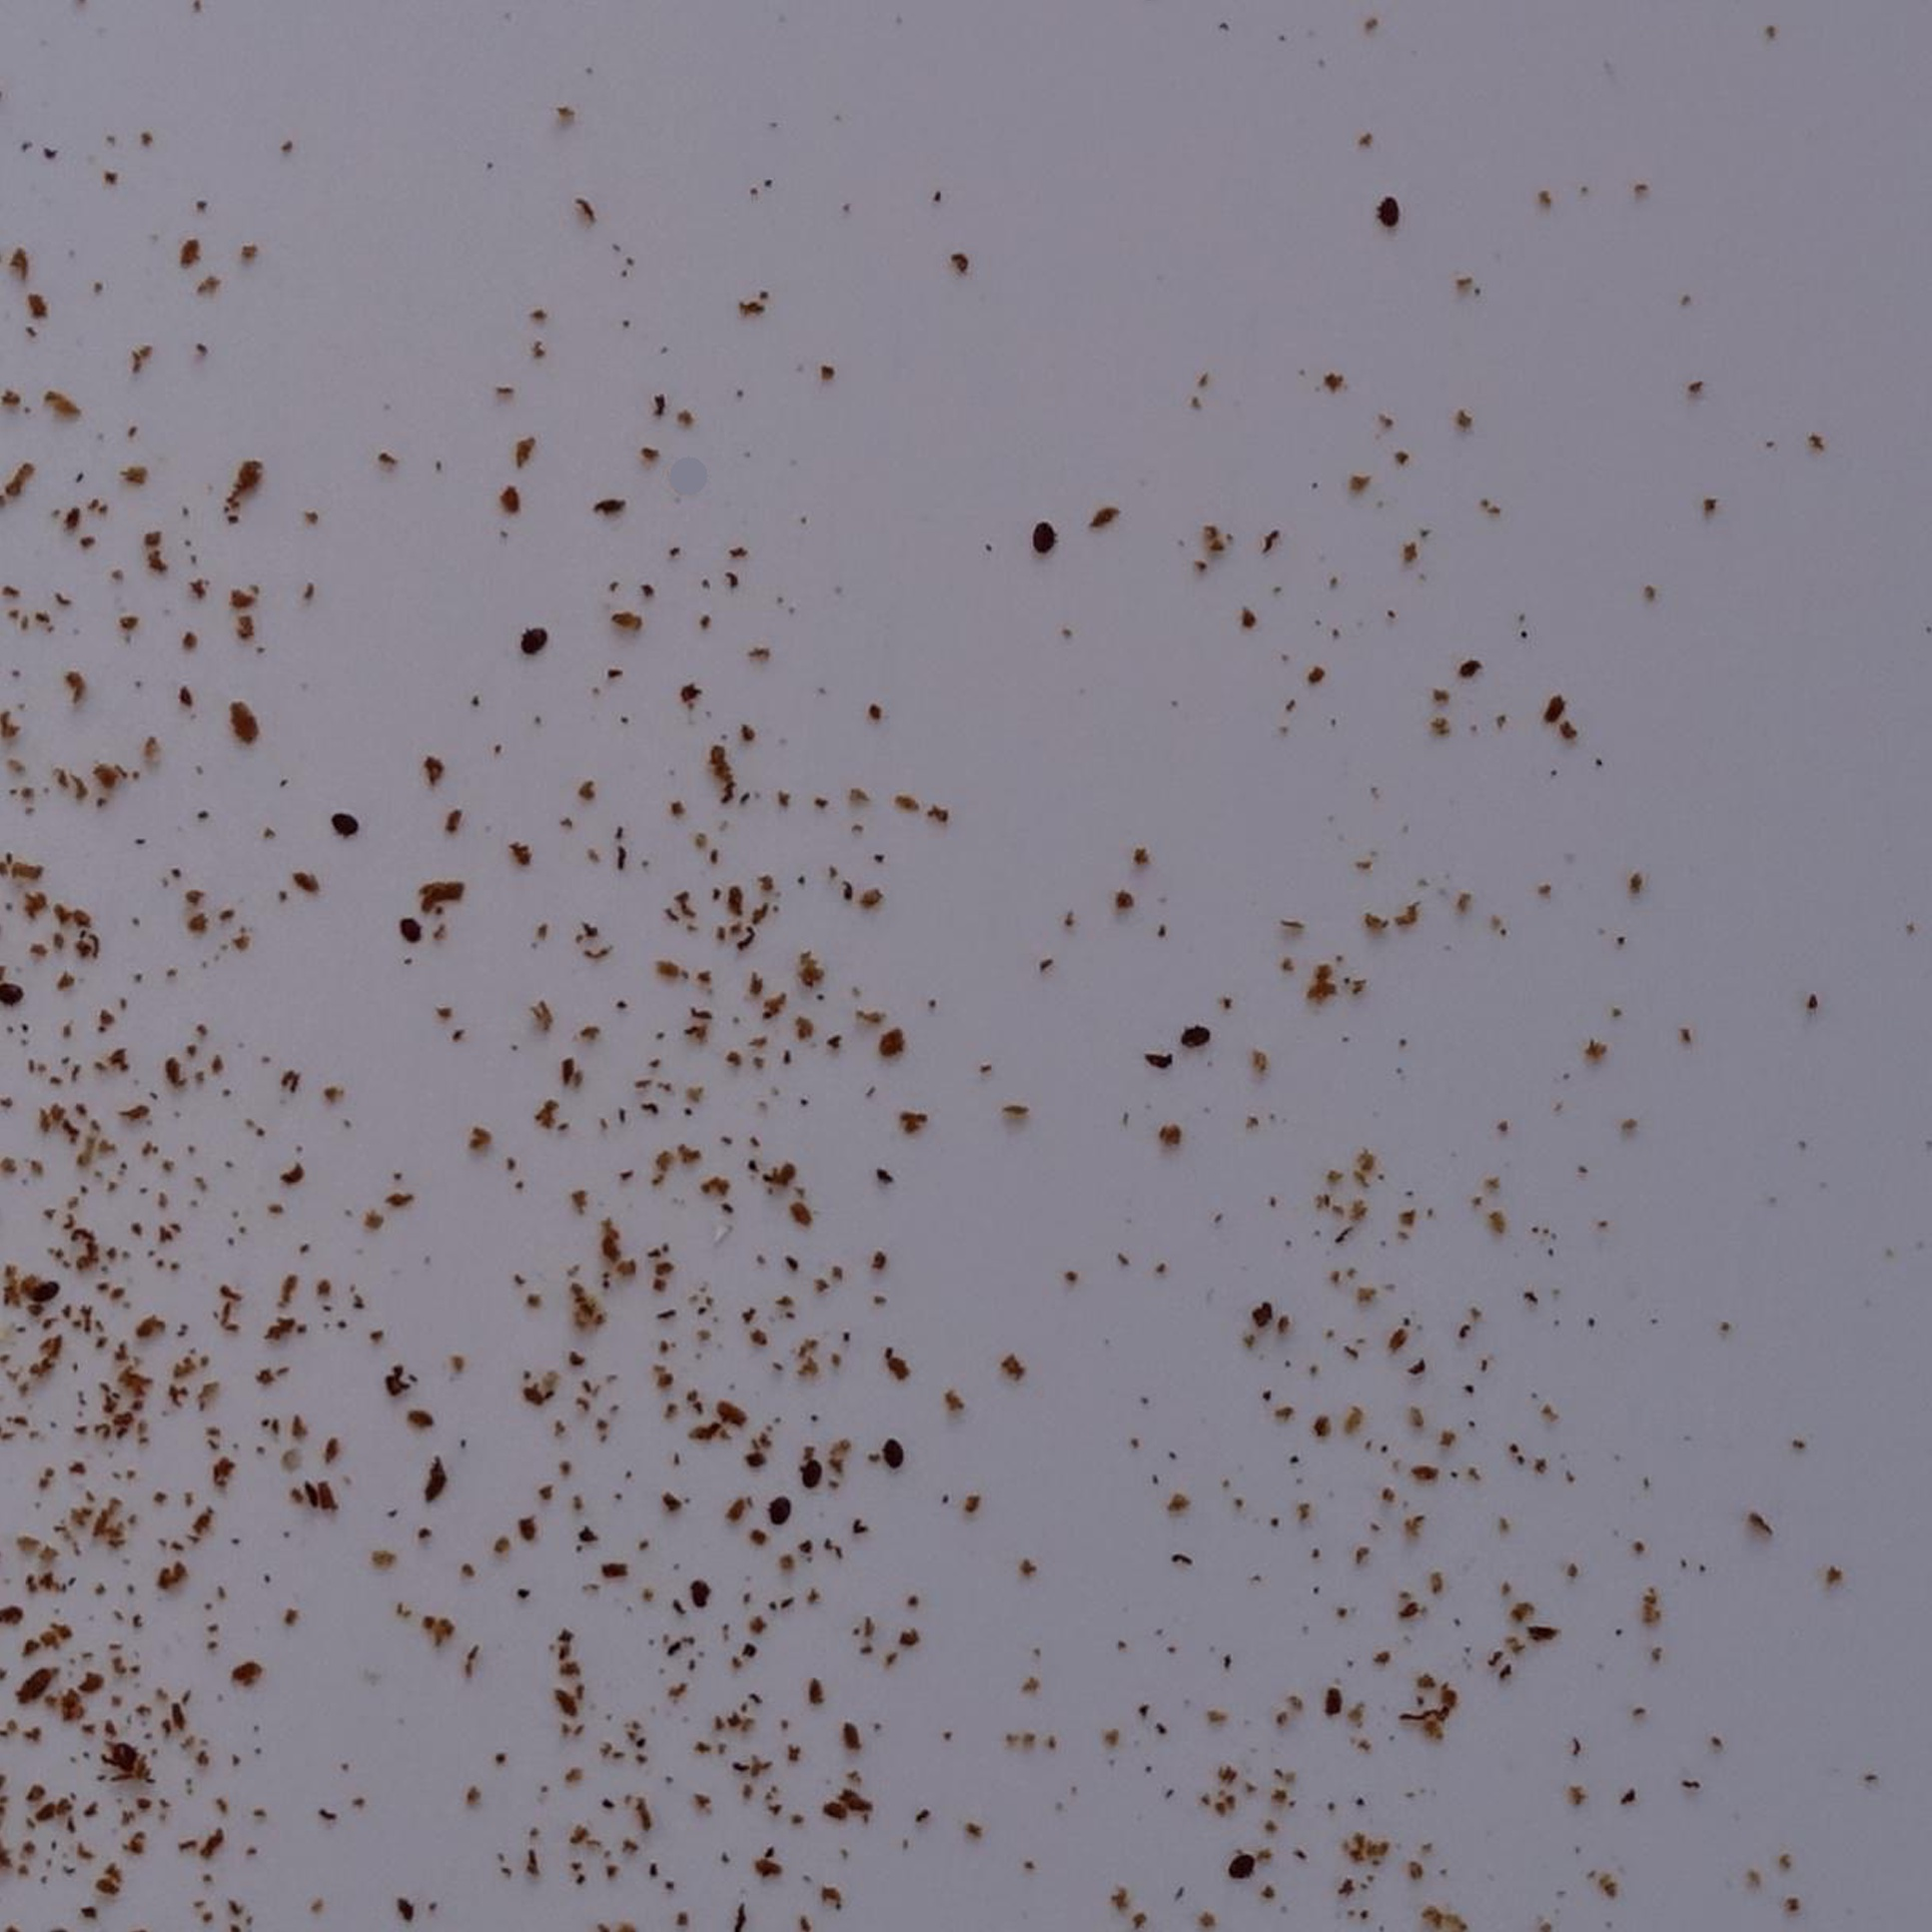Varroa: (28, 1277, 57, 1306), (759, 1495, 786, 1523), (798, 1460, 823, 1488), (333, 809, 357, 833), (1185, 1019, 1208, 1046), (111, 1743, 134, 1769), (1031, 524, 1054, 545), (398, 918, 419, 941), (1230, 1856, 1251, 1875), (520, 630, 538, 651), (2, 982, 19, 1001), (1389, 205, 1401, 218), (879, 1453, 892, 1465), (1376, 212, 1387, 226), (893, 1451, 902, 1460)
